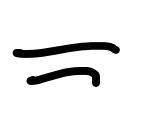eqv: (11, 41, 120, 88)
